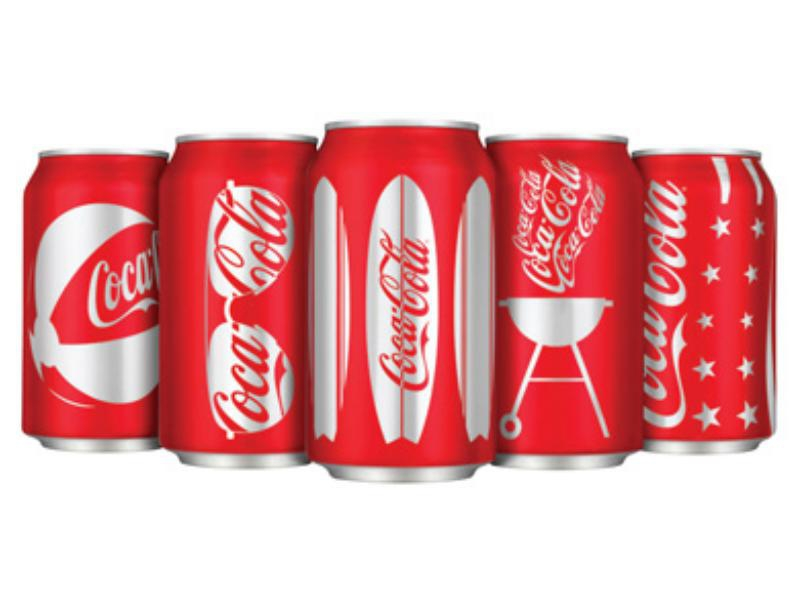can: (313, 109, 495, 482), (501, 127, 644, 482), (164, 130, 307, 478), (19, 141, 157, 459), (645, 142, 773, 467)
